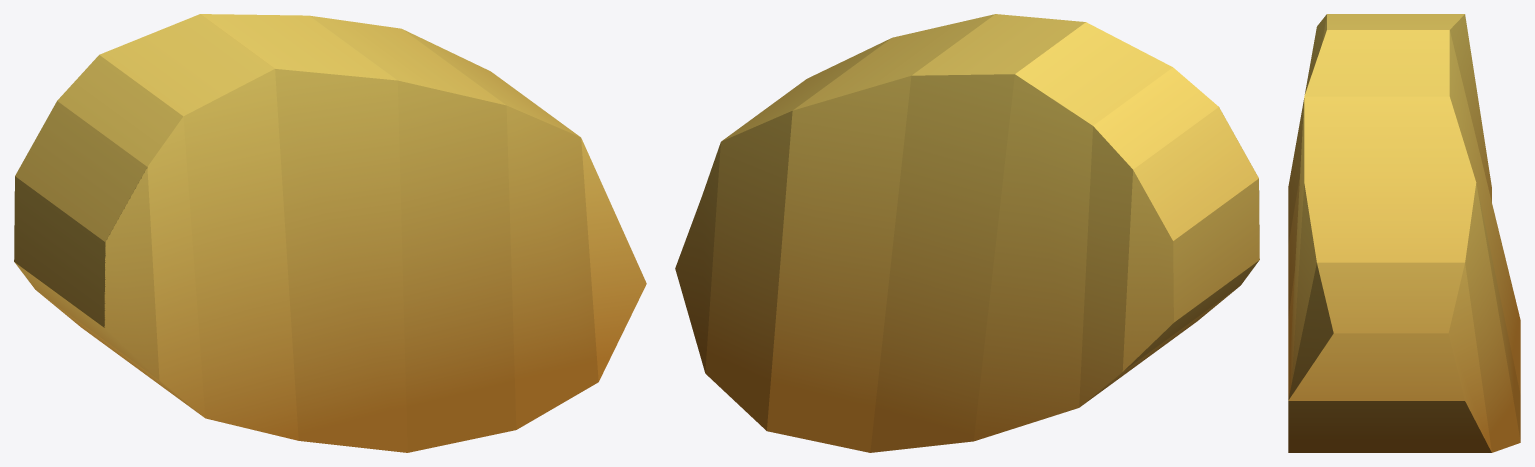
The model's file is Potato.glb.
The picture shows the model from 3 angles, left to right: view 1: azimuth 30°, elevation 25°; view 2: azimuth 150°, elevation 25°; view 3: azimuth 270°, elevation 25°; orthographic projection. The views are drawn at different scales.
Visible parts, largest first — view 1: Cube; view 2: Cube; view 3: Cube.
Boxes of the visible parts, <box> form: Cube: <box>14,14,646,452</box>; Cube: <box>675,14,1259,452</box>; Cube: <box>1288,14,1520,452</box>.
Bounding box in the file's own units: 2.05 × 1.48 × 0.9589.
1 material, 1 textured.
